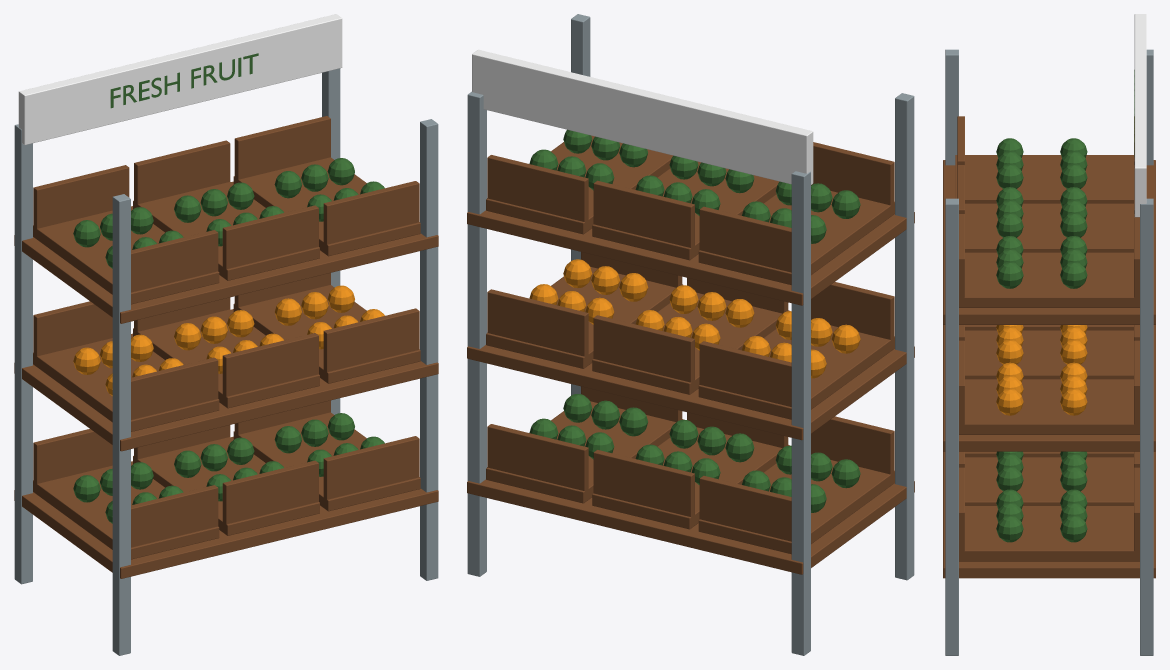
The model's file is fruit-display-rack.glb.
3 renders of one model, left to right at view 1: azimuth 30°, elevation 25°; view 2: azimuth 150°, elevation 25°; view 3: azimuth 270°, elevation 25°, orthographic. The views are drawn at different scales.
Visible parts, largest first — view 1: Produce_Header, Post, Post.002, Post.001, Shelf.002, Shelf.001, Shelf, Crate_Base.001, Crate_Base.007, Crate_Base.004, Crate_Lip.015, Crate_Lip.003 (+24 smaller); view 2: Produce_Header, Post.001, Post, Post.003, Shelf.001, Shelf.002, Shelf, Crate_Lip.010, Crate_Lip.012, Crate_Lip, Crate_Lip.016, Crate_Lip.006 (+36 smaller); view 3: Crate_Base.003, Crate_Base.006, Crate_Base, Post.002, Post.003, Crate_Base.007, Crate_Base.008, Crate_Base.005, Crate_Base.002, Shelf.002, Shelf, Shelf.001 (+51 smaller).
Part boxes in pixels (left/top/right/bottom): Produce_Header: left=18, top=14, right=342, bottom=145; Post: left=112, top=194, right=130, bottom=655; Post.002: left=420, top=119, right=438, bottom=580; Post.001: left=14, top=124, right=32, bottom=584; Shelf.002: left=14, top=174, right=438, bottom=323; Shelf.001: left=14, top=302, right=438, bottom=451; Shelf: left=14, top=429, right=438, bottom=578; Crate_Base.001: left=33, top=463, right=219, bottom=559; Crate_Base.007: left=33, top=208, right=219, bottom=304; Crate_Base.004: left=33, top=335, right=219, bottom=431; Crate_Lip.015: left=222, top=205, right=318, bottom=273; Crate_Lip.003: left=222, top=460, right=318, bottom=528; Produce_Header: left=472, top=49, right=813, bottom=184; Post.001: left=791, top=171, right=810, bottom=655; Post: left=895, top=93, right=914, bottom=580; Post.003: left=467, top=91, right=486, bottom=576; Shelf.001: left=467, top=276, right=914, bottom=440; Shelf.002: left=467, top=142, right=914, bottom=305; Shelf: left=467, top=411, right=914, bottom=574; Crate_Lip.010: left=593, top=315, right=694, bottom=386; Crate_Lip.012: left=487, top=289, right=588, bottom=359; Crate_Lip: left=487, top=155, right=588, bottom=225; Crate_Lip.016: left=593, top=180, right=694, bottom=252; Crate_Lip.006: left=487, top=424, right=588, bottom=493; Crate_Base.003: left=959, top=506, right=1139, bottom=561; Crate_Base.006: left=959, top=379, right=1139, bottom=434; Crate_Base: left=959, top=252, right=1139, bottom=307; Post.002: left=945, top=198, right=958, bottom=655; Post.003: left=1140, top=198, right=1153, bottom=655; Crate_Base.007: left=955, top=155, right=1133, bottom=203; Crate_Base.008: left=965, top=203, right=1133, bottom=252; Crate_Base.005: left=965, top=330, right=1133, bottom=379; Crate_Base.002: left=965, top=457, right=1133, bottom=505; Shelf.002: left=943, top=160, right=1155, bottom=324; Shelf: left=943, top=451, right=1155, bottom=578; Shelf.001: left=943, top=325, right=1155, bottom=451.
Bounding box in the file's own units: 1.2 × 1.77 × 0.7.
